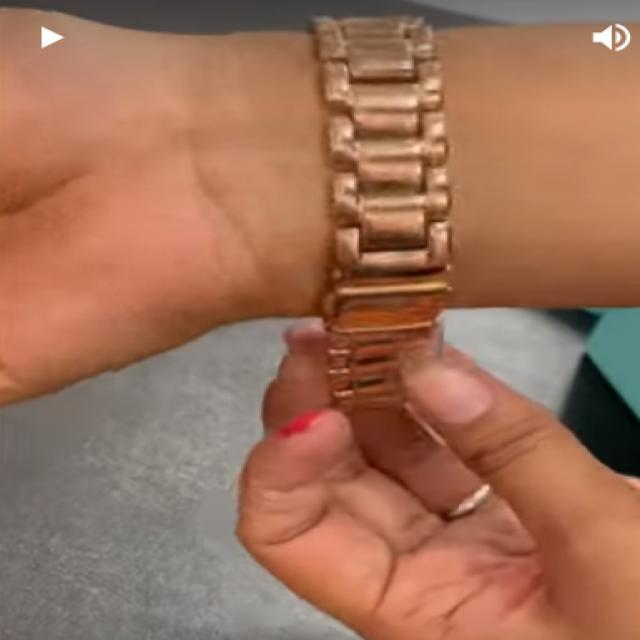Watch: (306, 10, 449, 400)
